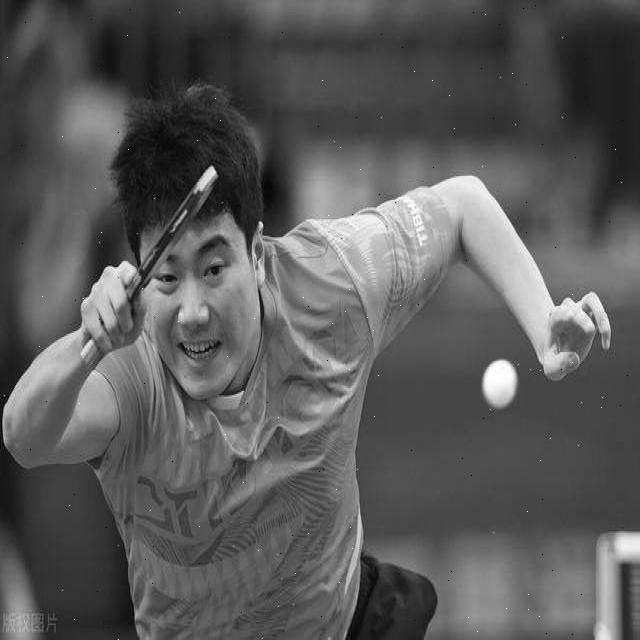ping-pong-ball: (478, 352, 521, 412)
